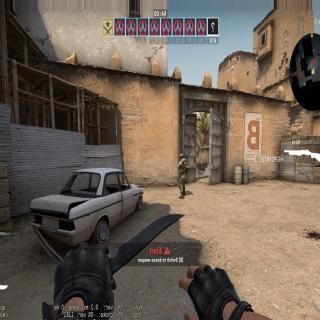CT-Body: (176, 151, 190, 199)
CT-Head: (179, 153, 184, 161)
